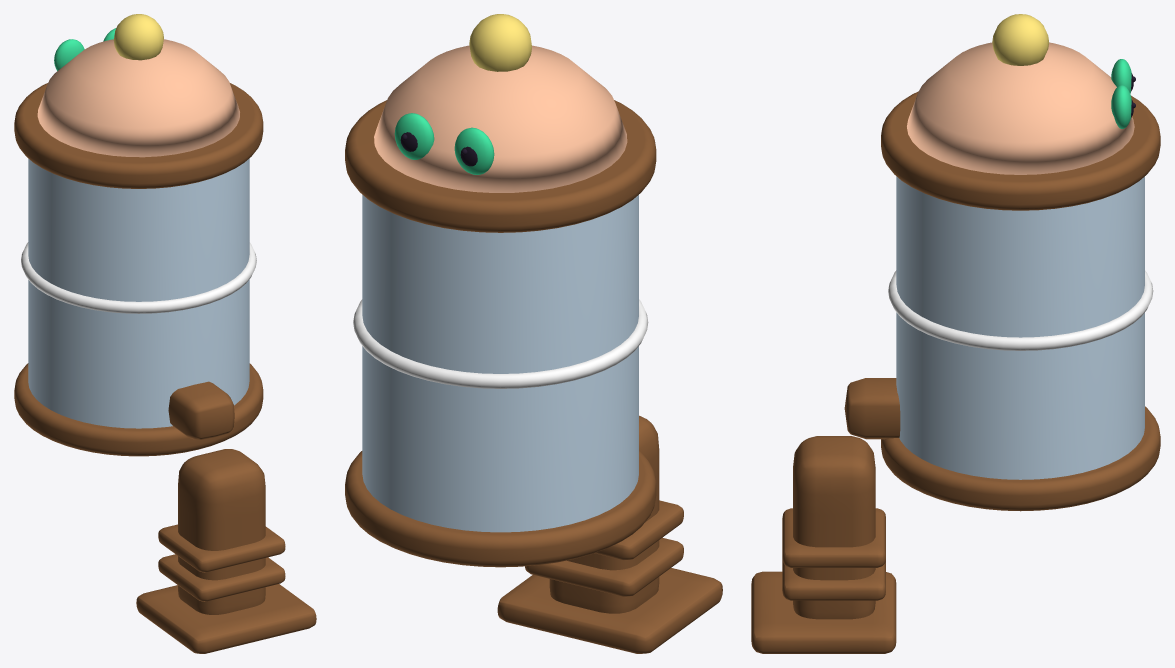
File: CakeStacker.obj
3 views of the same model, side by side, from view 1: azimuth 30°, elevation 25°; view 2: azimuth 150°, elevation 25°; view 3: azimuth 270°, elevation 25° (orthographic). The views are drawn at different scales.
Parts seen in each view (by area): view 1: Glass, Frame, Dome, Stripe, Beacon, Eyes; view 2: Glass, Frame, Dome, Stripe, Beacon, Eyes, Pupils; view 3: Glass, Frame, Dome, Stripe, Beacon, Eyes.
Boxes of the visible parts, x1,y1,x2,y2 form: Glass: (28,158,249,428); Frame: (14,83,316,653); Dome: (37,39,239,157); Stripe: (21,242,256,313); Beacon: (113,14,163,60); Eyes: (54,28,116,70); Glass: (362,195,638,532); Frame: (345,100,722,653); Dome: (374,45,627,192); Stripe: (353,299,648,388); Beacon: (469,14,531,71); Eyes: (394,113,494,174); Pupils: (400,132,477,166); Glass: (896,176,1144,479); Frame: (751,91,1160,653); Dome: (907,42,1134,174); Stripe: (888,270,1153,350); Beacon: (992,14,1049,65); Eyes: (1111,59,1131,128).
Size of the model in its own units: 5.4 by 12.95 by 7.9.
